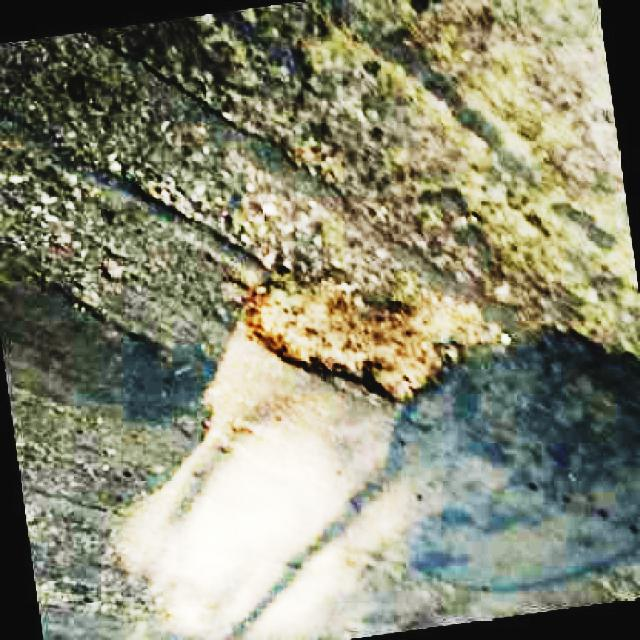pothole: (245, 249, 457, 402)
